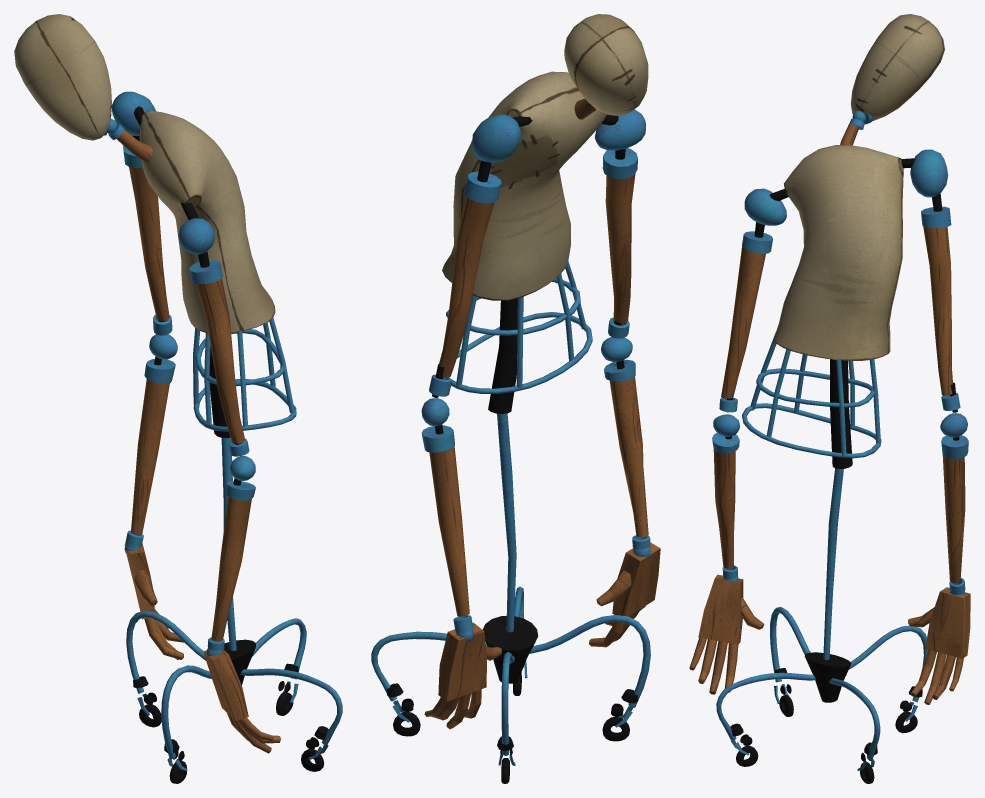
3 views of the same model, side by side, from view 1: azimuth 30°, elevation 25°; view 2: azimuth 150°, elevation 25°; view 3: azimuth 270°, elevation 25° (orthographic). The views are drawn at different scales.
Visible parts, largest first — view 1: Object_4, Object_2, Object_3, Object_7, Object_6, Object_5; view 2: Object_4, Object_2, Object_3, Object_6, Object_7, Object_5; view 3: Object_4, Object_2, Object_3, Object_7, Object_6, Object_5.
Part boxes in pixels (<box>): Object_4: <box>14,14,275,333</box>; Object_2: <box>117,130,280,753</box>; Object_3: <box>104,91,342,770</box>; Object_7: <box>193,318,296,431</box>; Object_6: <box>139,346,324,783</box>; Object_5: <box>132,106,328,760</box>; Object_4: <box>442,14,648,300</box>; Object_2: <box>424,98,660,729</box>; Object_3: <box>371,109,650,765</box>; Object_6: <box>393,298,629,783</box>; Object_7: <box>446,261,592,393</box>; Object_5: <box>386,114,637,757</box>; Object_4: <box>774,14,944,360</box>; Object_2: <box>689,123,970,704</box>; Object_3: <box>712,111,968,770</box>; Object_7: <box>742,332,881,458</box>; Object_6: <box>736,359,917,783</box>; Object_5: <box>725,158,959,761</box>.
Size of the model in its own units: 3.41 by 8.85 by 3.35.
6 materials, 6 textured.
